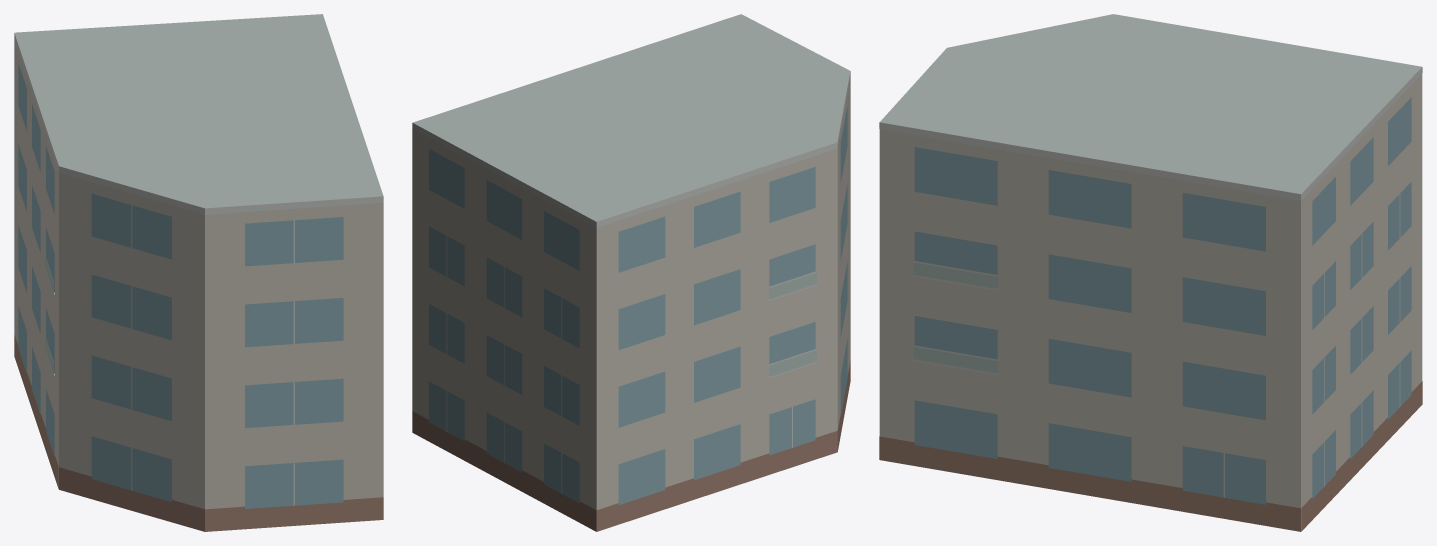
Rendered from survey-upis-32933222.glb.
The picture shows the model from 3 angles, left to right: view 1: azimuth 30°, elevation 25°; view 2: azimuth 150°, elevation 25°; view 3: azimuth 270°, elevation 25°; orthographic projection. The views are drawn at different scales.
Visible parts, largest first — view 1: survey-upis-32933222.tmp; view 2: survey-upis-32933222.tmp; view 3: survey-upis-32933222.tmp.
Boxes of the visible parts, <box> form: survey-upis-32933222.tmp: <box>14,14,383,531</box>; survey-upis-32933222.tmp: <box>412,14,850,531</box>; survey-upis-32933222.tmp: <box>879,14,1422,531</box>.
Bounding box in the file's own units: 14.2 × 12.4 × 18.08.
